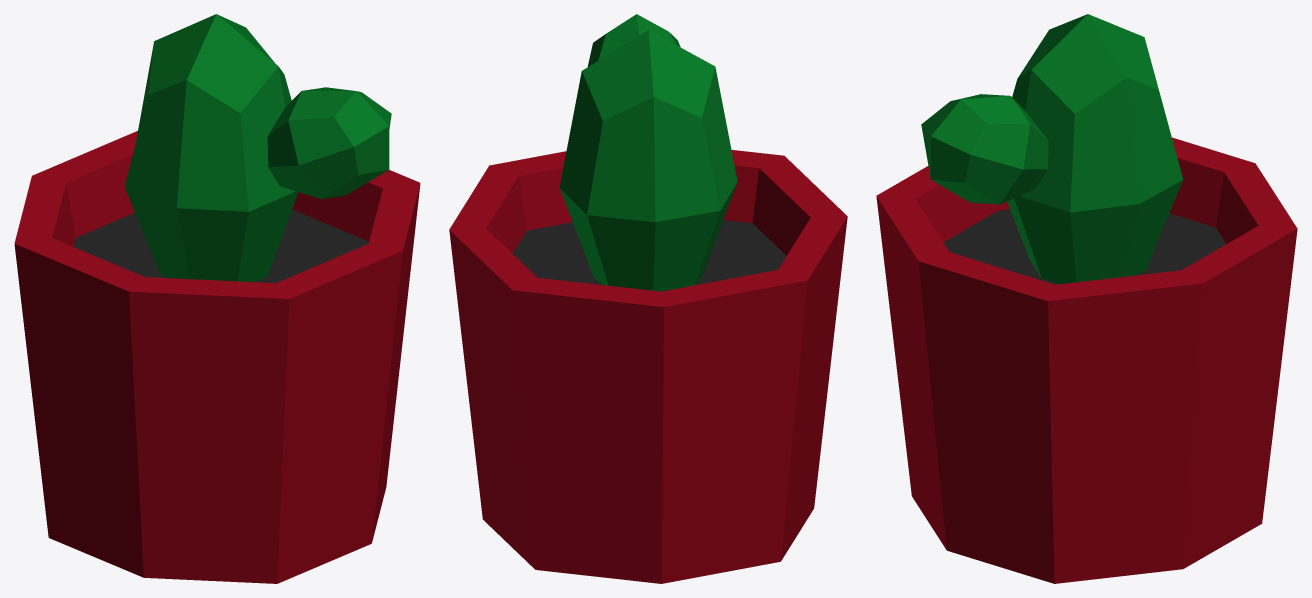
Rendered from Plant_Kitchen_Plant3_231109.glb.
The picture shows the model from 3 angles, left to right: view 1: azimuth 30°, elevation 25°; view 2: azimuth 150°, elevation 25°; view 3: azimuth 270°, elevation 25°; orthographic projection. The views are drawn at different scales.
Parts seen in each view (by area): view 1: Kitchen_Plant3; view 2: Kitchen_Plant3; view 3: Kitchen_Plant3.
Boxes of the visible parts, <box> form: Kitchen_Plant3: <box>14,14,420,583</box>; Kitchen_Plant3: <box>449,14,847,583</box>; Kitchen_Plant3: <box>876,14,1297,583</box>.
Size of the model in its own units: 0.1597 by 0.2074 by 0.1597.
1 material, 1 textured.
